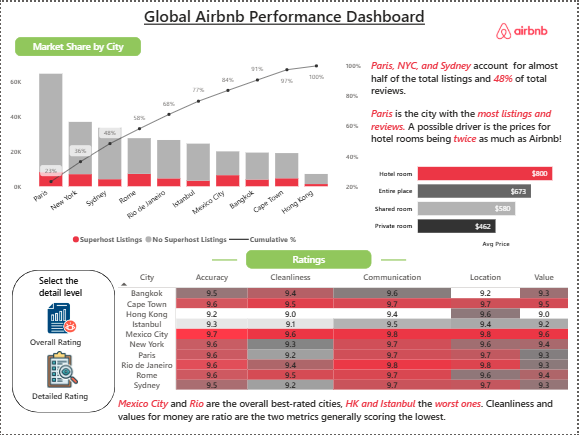

Layout of this report page (visuals, bound fields, positions):
{"tool":"powerbi","page":{"name":"Ratings","canvas":[960,720],"ordinal":1},"visuals":[{"type":"textbox","box":[233.8,0,491.5,116.9],"z":0},{"type":"image","box":[776.8,0,183.7,97.1],"z":1000},{"type":"textbox","box":[23.9,58.5,209.9,31.9],"z":2000},{"type":"textbox","box":[611.1,90.3,337.4,159.4],"z":3000},{"type":"lineStackedColumnComboChart","fields":{"Category":["Listings.city"],"Y":["Listings.Superhost Listings","Listings.No Superhost Listings"],"Y2":["Listings.Cumulative %"]},"box":[10.5,89.6,596,324.1],"z":4000},{"type":"barChart","fields":{"Category":["Listings.room_type"],"Y":["Listings.Avg Price"]},"box":[616.9,249.5,343.6,164.3],"z":5000},{"type":"textbox","box":[407.8,413.8,209.1,31.4],"z":6000},{"type":"shape","box":[17.9,446.6,171.8,237.5],"z":7000},{"type":"textbox","box":[58.3,448.1,88.1,50.8],"z":8000},{"type":"image","box":[55.6,498.9,92.6,56.8],"z":9000,"group":"g1"},{"type":"pivotTable","fields":{"Rows":["Listings.city"],"Values":["Listings.Accuracy","Listings.Cleanliness","Listings.Communication","Listings.Location","Listings.Value"]},"box":[189.7,445.1,770.8,248],"z":10000},{"type":"image","box":[62.7,581.1,79.2,61.2],"z":10000,"group":"g2"},{"type":"group","id":"g1","title":"Group 1","box":[43.3,498.9,115,82.2],"z":11000},{"type":"group","id":"g2","title":"Group 2","box":[46.3,581.1,112,88.1],"z":12000},{"type":"textbox","box":[43.3,553.9,115,26.9],"z":13000,"group":"g1"},{"type":"textbox","box":[189.7,652.8,758.8,67.2],"z":13000},{"type":"shape","box":[351,392.9,41.8,73.2],"z":14000},{"type":"textbox","box":[46.3,642.3,112,26.9],"z":14000,"group":"g2"},{"type":"shape","box":[633.4,392.9,41.8,73.2],"z":15000}]}

Visuals, with their boxes in screenshot pixels (x1, y1, x2, y2), scaled from the page's 960x720 canvas onto the 579x435 screenshot:
textbox: [x1=141, y1=0, x2=437, y2=71]
image: [x1=469, y1=0, x2=578, y2=59]
textbox: [x1=14, y1=35, x2=141, y2=55]
textbox: [x1=369, y1=55, x2=572, y2=151]
lineStackedColumnComboChart - Listings.city x Listings.Superhost Listings: [x1=6, y1=54, x2=366, y2=250]
barChart - Listings.room_type x Listings.Avg Price: [x1=372, y1=151, x2=578, y2=250]
textbox: [x1=246, y1=250, x2=372, y2=269]
shape: [x1=11, y1=270, x2=114, y2=413]
textbox: [x1=35, y1=271, x2=88, y2=301]
image: [x1=34, y1=301, x2=89, y2=336]
pivotTable - Listings.city x Listings.Accuracy: [x1=114, y1=269, x2=578, y2=419]
image: [x1=38, y1=351, x2=86, y2=388]
"Group 1" group: [x1=26, y1=301, x2=95, y2=351]
"Group 2" group: [x1=28, y1=351, x2=95, y2=404]
textbox: [x1=26, y1=335, x2=95, y2=351]
textbox: [x1=114, y1=394, x2=572, y2=434]
shape: [x1=212, y1=237, x2=237, y2=282]
textbox: [x1=28, y1=388, x2=95, y2=404]
shape: [x1=382, y1=237, x2=407, y2=282]
